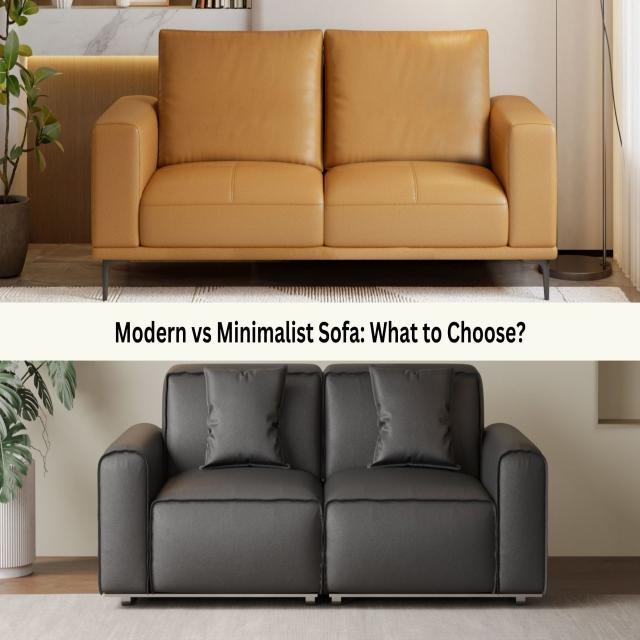sofa: (90, 27, 558, 300), (97, 362, 549, 607)
